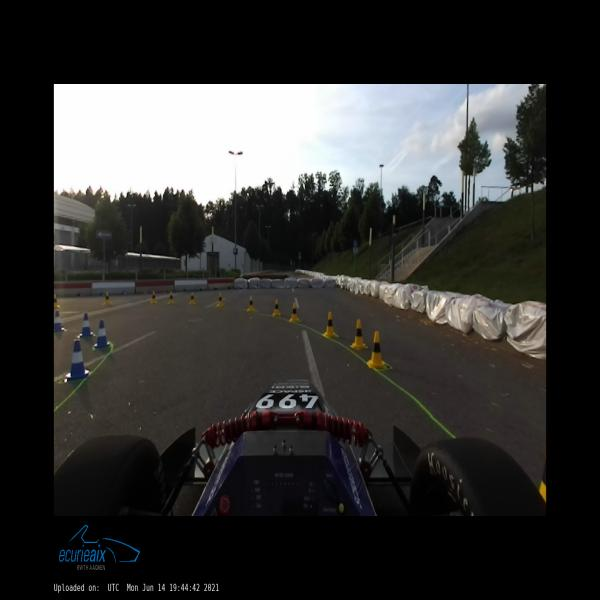blue_cone: (64, 339, 88, 382), (94, 320, 110, 348), (79, 314, 93, 337), (54, 310, 63, 331)
yellow_cone: (367, 332, 386, 369), (350, 319, 368, 349), (324, 311, 336, 337), (290, 302, 298, 322), (273, 299, 281, 315), (247, 296, 255, 311), (53, 294, 60, 309), (218, 292, 224, 306), (104, 292, 110, 305), (151, 290, 157, 302), (168, 290, 174, 302), (189, 292, 195, 304)
